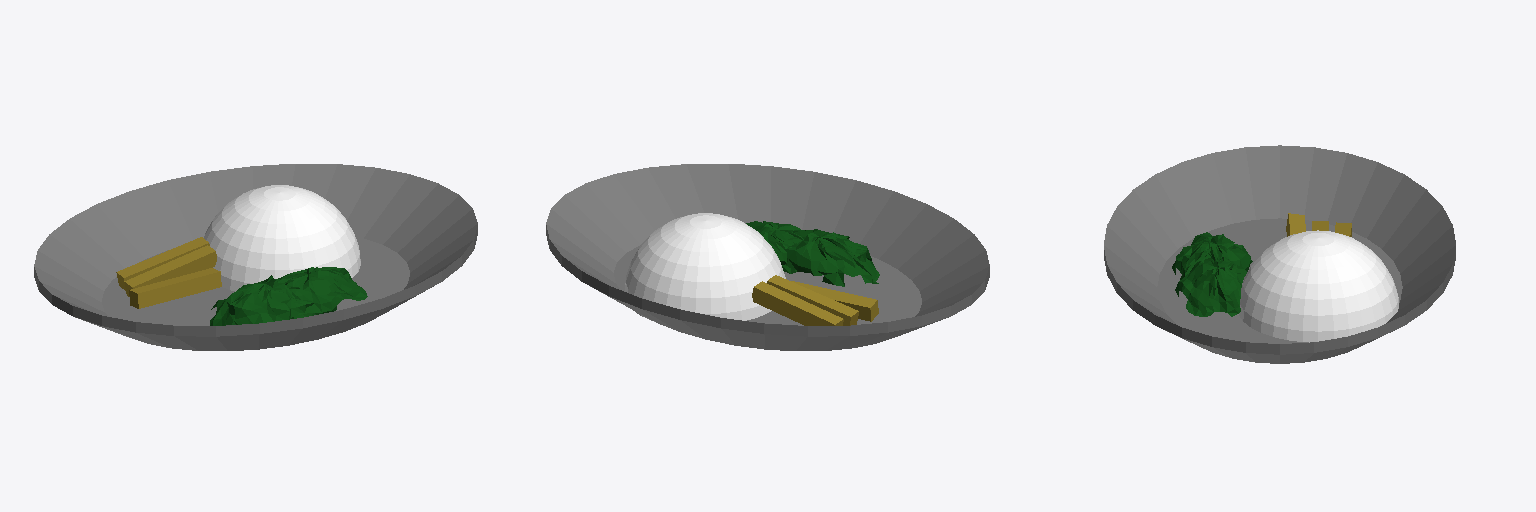
File: rice2_meat1_veg2.obj
3 views of the same model, side by side, from view 1: azimuth 30°, elevation 25°; view 2: azimuth 150°, elevation 25°; view 3: azimuth 270°, elevation 25° (orthographic).
Visible parts, largest first — view 1: Cylinder, Sphere, Sphere.002, Sphere.001, Cube.002_Cube.003, Cube.001_Cube.002, Cube_Cube.001; view 2: Cylinder, Sphere, Sphere.002, Cube_Cube.001, Cube.001_Cube.002, Sphere.001, Cube.002_Cube.003; view 3: Cylinder, Sphere, Sphere.001, Sphere.002.
Part boxes in pixels (x1,y1,x2,y2): Cylinder: (34,164,477,350); Sphere: (204,185,360,291); Sphere.002: (210,275,314,325); Sphere.001: (278,267,367,318); Cube.002_Cube.003: (129,268,221,308); Cube.001_Cube.002: (124,245,216,296); Cube_Cube.001: (116,237,209,290); Cylinder: (546,164,989,350); Sphere: (625,213,785,321); Sphere.002: (783,229,879,286); Cube_Cube.001: (752,281,843,325); Cube.001_Cube.002: (767,275,858,325); Sphere.001: (746,221,803,273); Cube.002_Cube.003: (791,281,878,321); Cylinder: (1104,145,1455,363); Sphere: (1238,230,1398,342); Sphere.001: (1175,257,1246,316); Sphere.002: (1172,232,1252,276).
Bounding box in the file's own units: 5.75 × 1.05 × 4.31.